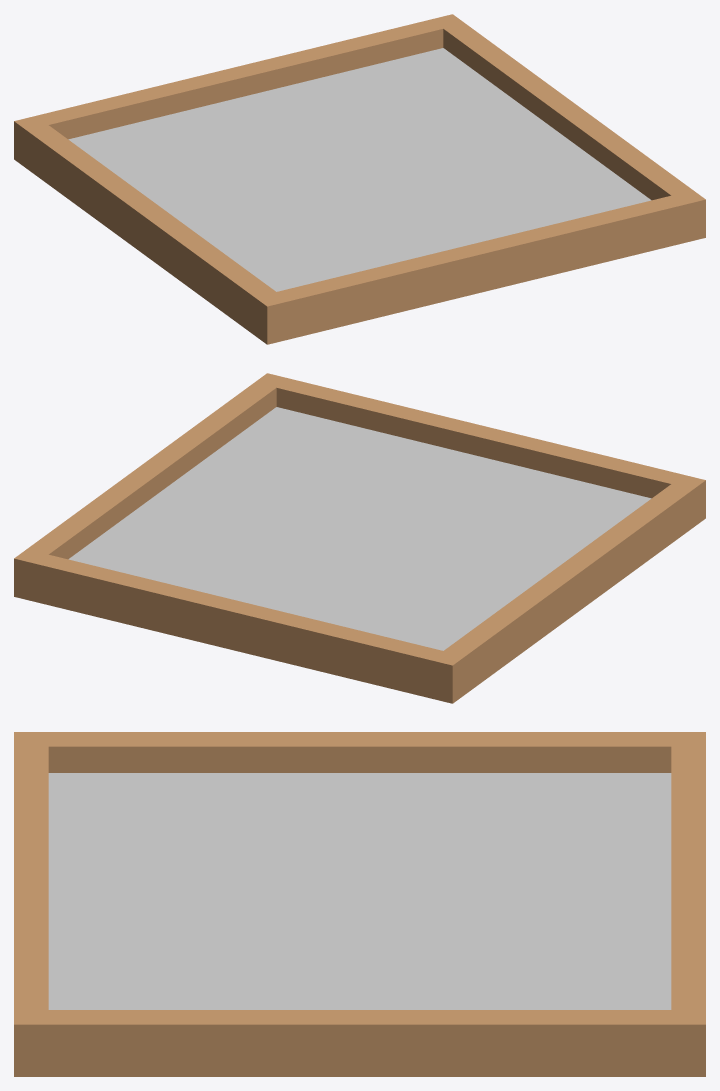
Rendered from Picture Frame.fbx.
The picture shows the model from 3 angles, top to bottom: view 1: azimuth 30°, elevation 25°; view 2: azimuth 150°, elevation 25°; view 3: azimuth 270°, elevation 25°; orthographic projection. The views are drawn at different scales.
Visible parts, largest first — view 1: Picture Frame; view 2: Picture Frame; view 3: Picture Frame.
Boxes of the visible parts, x1,y1,x2,y2 form: Picture Frame: (14, 14, 705, 344); Picture Frame: (14, 373, 705, 703); Picture Frame: (14, 732, 705, 1076).
Bounding box in the file's own units: 240 × 20 × 240.
